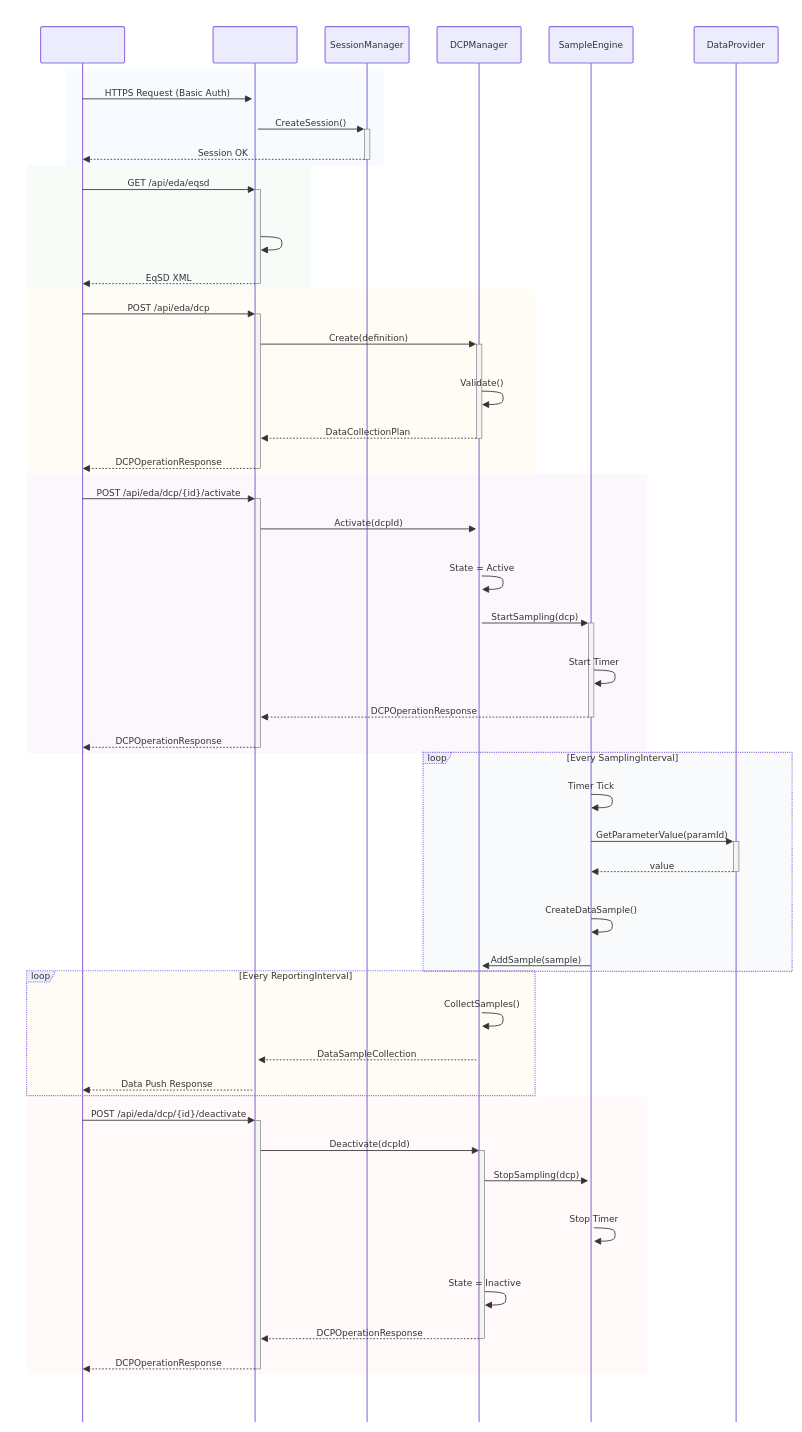
This 802x1432 diagram has some shape labels left out. The shapes that lost their labels are listed below. From the top down, each one's box as (x1, y1, x2, y2) in pixels, then its label:
(26, 165, 311, 289): Load EqSDModel
(40, 26, 125, 1422): EDA Client
(212, 26, 297, 1422): EDAServerController
